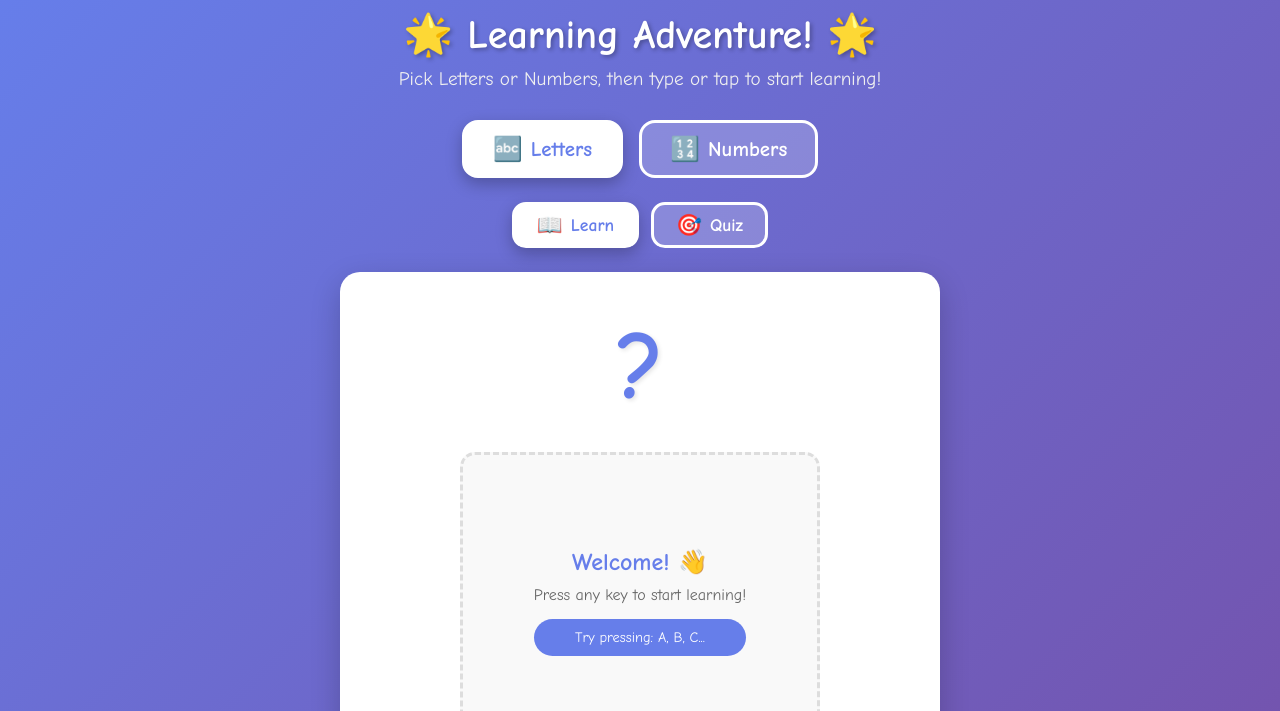
Find the Letter Quiz › Mode switching › selecting Quiz marks Quiz active and shows the quiz view
Step 1. Click the tab "🎯 Quiz" → (710, 225), box [651, 202, 768, 248]
(page scrolled)
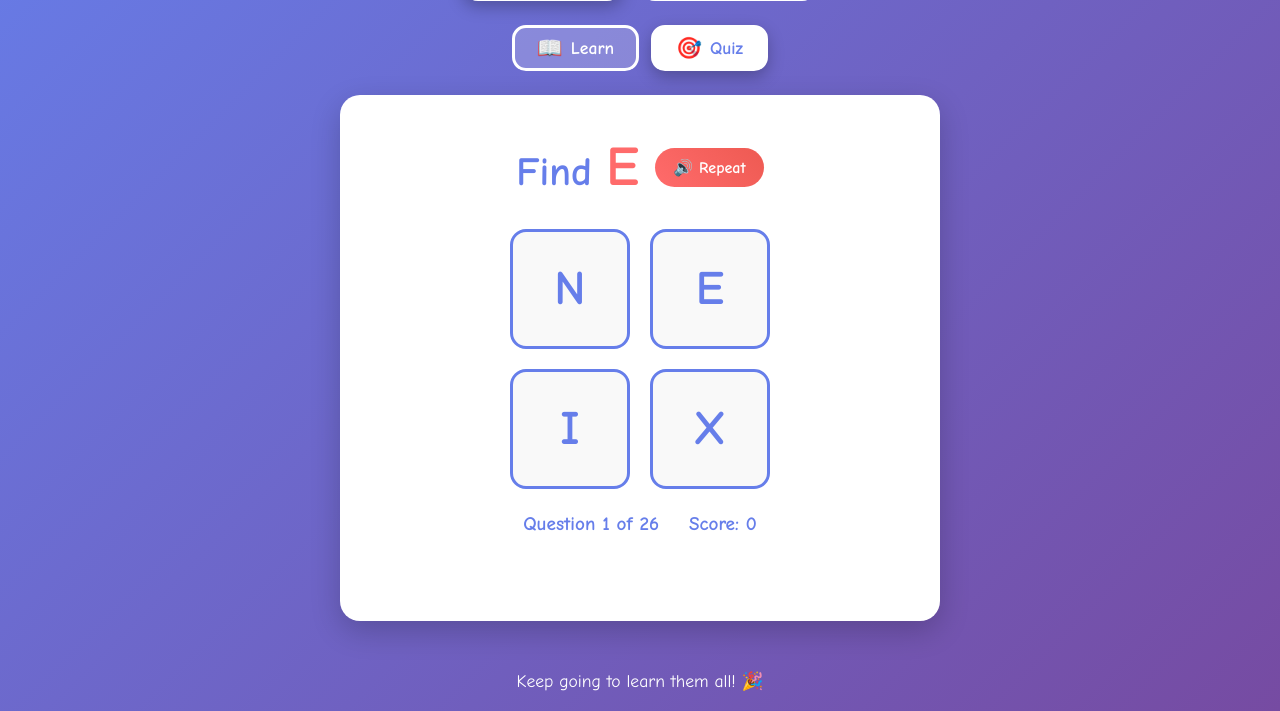
expect the element named "Find the letter quiz" is shown: met, box [340, 95, 940, 621]
